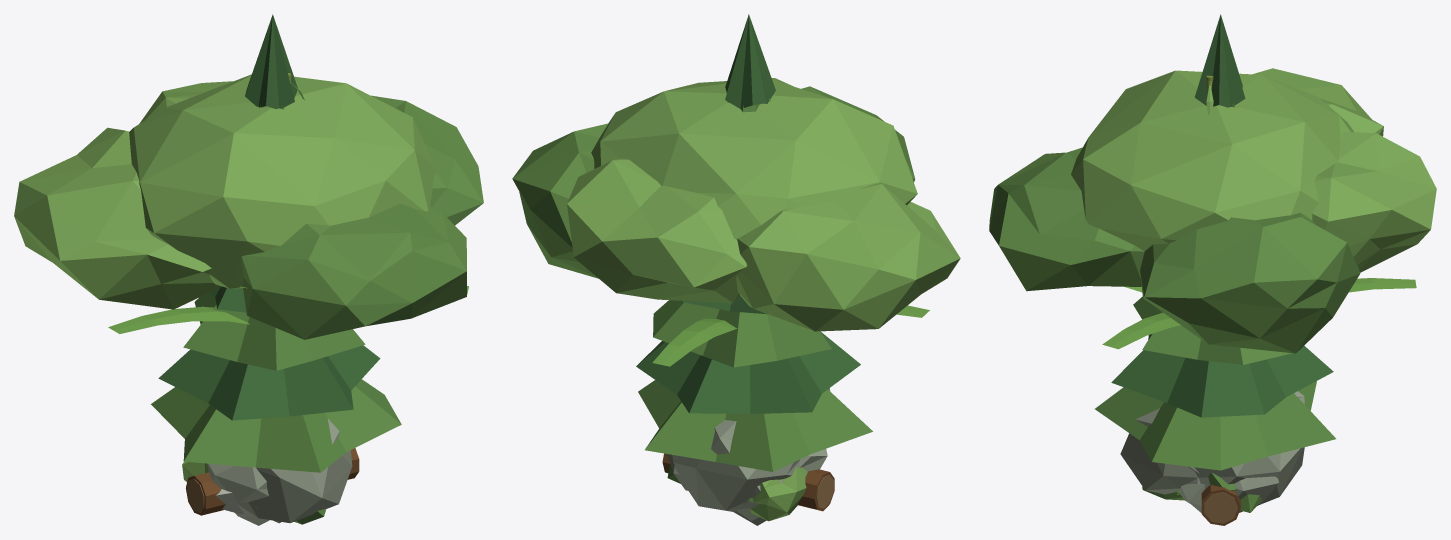
The model's file is flora.glb.
The picture shows the model from 3 angles, left to right: view 1: azimuth 30°, elevation 25°; view 2: azimuth 150°, elevation 25°; view 3: azimuth 270°, elevation 25°; orthographic projection.
Visible parts, largest first — view 1: shade, pine, rock3, banana, rock1, log, bush; view 2: shade, pine, rock3, bush, banana, log, rock1; view 3: shade, pine, rock3, banana, log, rock1, bush.
Part boxes in pixels (x1,y1,x2,y2): shade: (14, 74, 483, 339); pine: (151, 14, 401, 472); rock3: (235, 418, 352, 525); banana: (108, 286, 468, 333); rock1: (207, 463, 280, 523); log: (186, 448, 359, 515); bush: (182, 461, 326, 524); shade: (512, 78, 960, 331); pine: (636, 14, 872, 471); rock3: (672, 420, 800, 525); bush: (667, 463, 807, 521); banana: (652, 305, 929, 366); log: (662, 453, 834, 511); rock1: (667, 449, 827, 520); shade: (989, 68, 1436, 353); pine: (1095, 14, 1335, 470); rock3: (1120, 391, 1304, 512); banana: (1102, 278, 1416, 349); log: (1201, 484, 1240, 525); rock1: (1180, 466, 1278, 512); bush: (1142, 473, 1261, 512).
Bounding box in the file's own units: 6.48 × 7.64 × 6.15.
